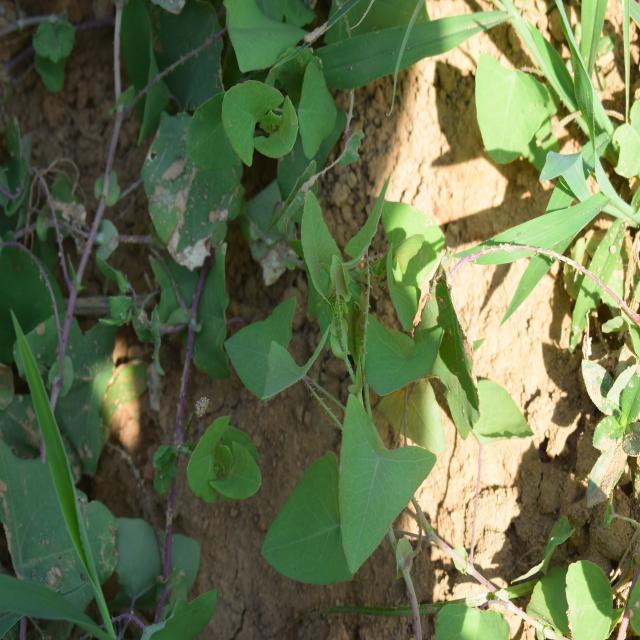Asiatic_Smartweed: (240, 210, 448, 578), (175, 50, 378, 200)
